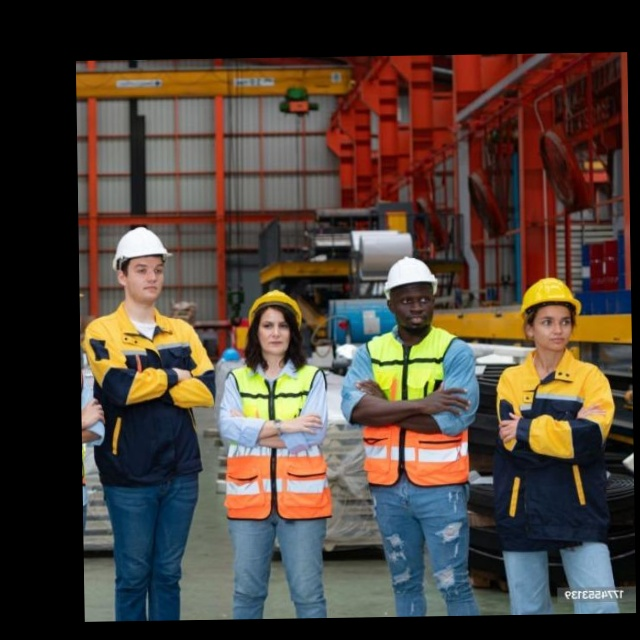Con_Casco: (518, 277, 581, 357), (112, 226, 171, 305), (382, 255, 439, 334), (248, 290, 302, 362)
Con_Chaleco: (355, 329, 476, 487), (221, 362, 330, 520)
